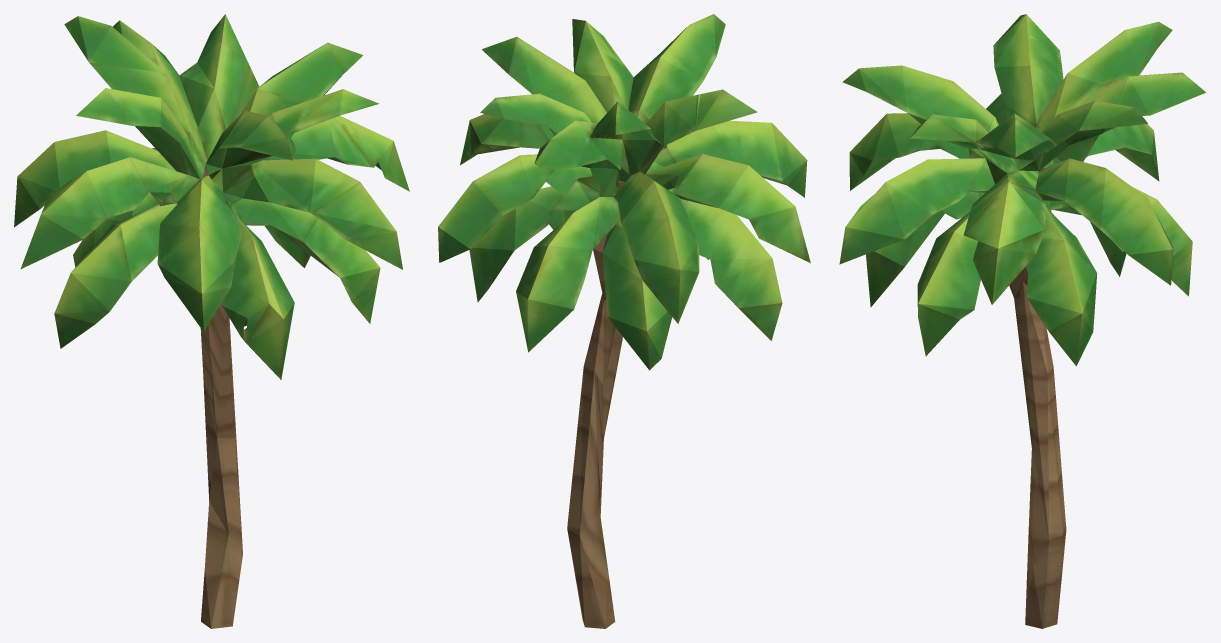
Rendered from palm_b_far.glb.
The picture shows the model from 3 angles, left to right: view 1: azimuth 30°, elevation 25°; view 2: azimuth 150°, elevation 25°; view 3: azimuth 270°, elevation 25°; orthographic projection. The views are drawn at different scales.
Parts seen in each view (by area): view 1: body; view 2: body; view 3: body.
Boxes of the visible parts, bbox=[...] form: body: bbox=[14, 14, 409, 628]; body: bbox=[438, 14, 810, 628]; body: bbox=[839, 14, 1205, 628].
Size of the model in its own units: 4.4 by 6.52 by 3.86.
Materials: 2 (2 with a texture image).
